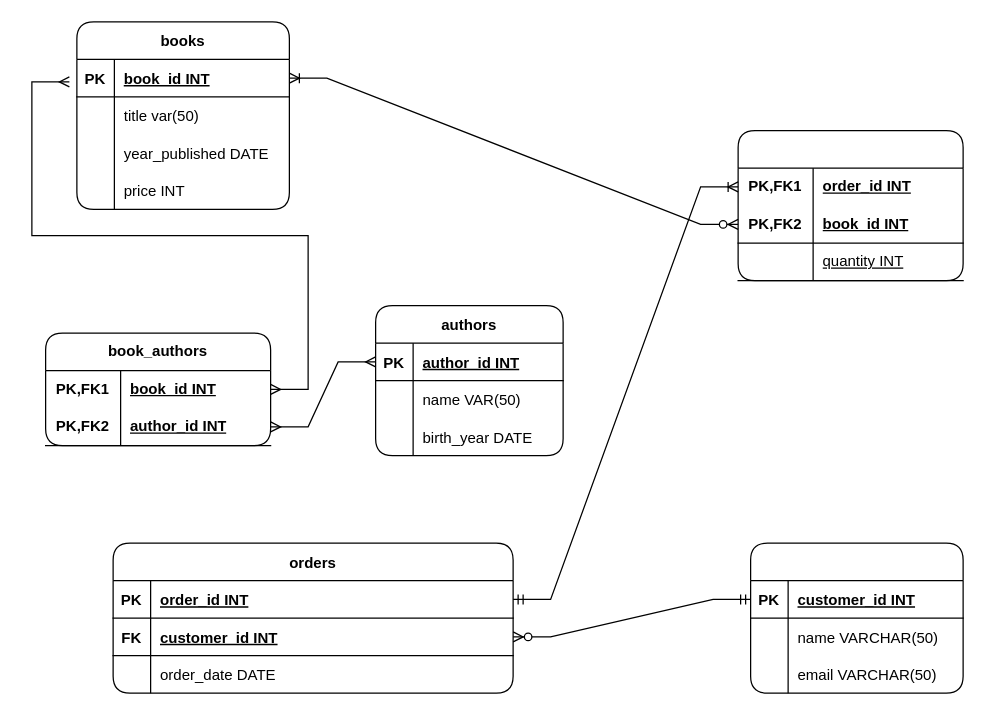
Some shapes in this 985 by 715 pixel diagram are drawn without their labels. The shapes that lost their labels are listed below. From the top down, each one's box as (x1, y1, x2, y2) in pixels, then its label:
(737, 129, 963, 281): orders_items
(749, 542, 963, 693): customers
